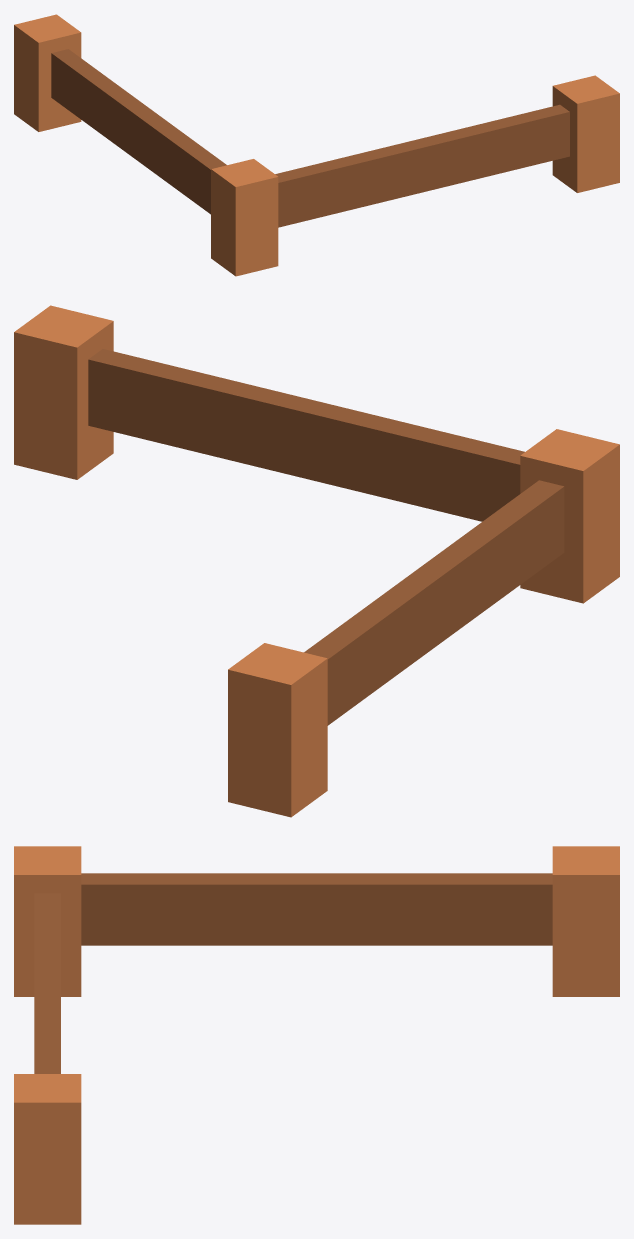
The model's file is fenceLowCorner.fbx.
The picture shows the model from 3 angles, top to bottom: view 1: azimuth 30°, elevation 25°; view 2: azimuth 150°, elevation 25°; view 3: azimuth 270°, elevation 25°; orthographic projection. The views are drawn at different scales.
Parts seen in each view (by area): view 1: fenceLowCorner; view 2: fenceLowCorner; view 3: fenceLowCorner.
Part boxes in pixels (<box>): fenceLowCorner: <box>14,14,619,276</box>; fenceLowCorner: <box>14,305,619,817</box>; fenceLowCorner: <box>14,846,619,1224</box>.
Bounding box in the file's own units: 9 × 2 × 9.
